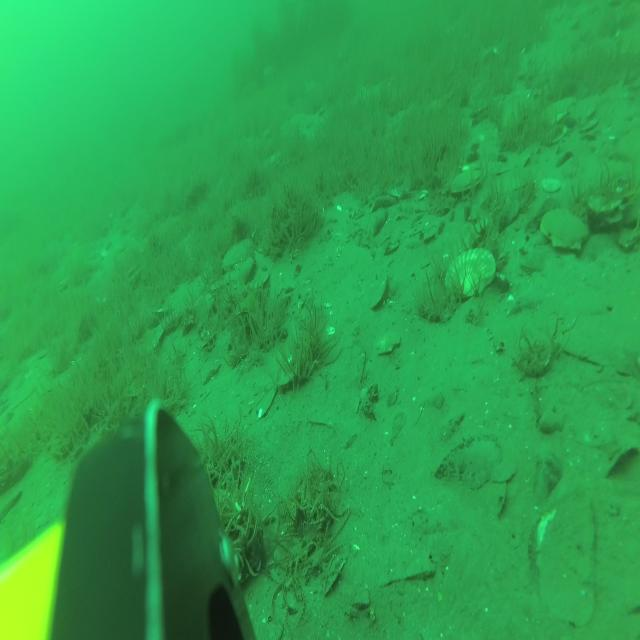scallop: (443, 244, 498, 304), (539, 204, 592, 256), (538, 92, 580, 129), (216, 237, 256, 273), (445, 166, 485, 198), (374, 328, 402, 357)
